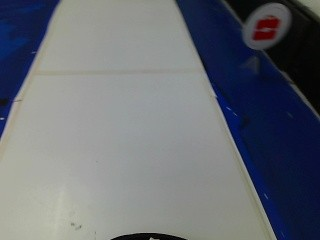company: (242, 3, 289, 51)
